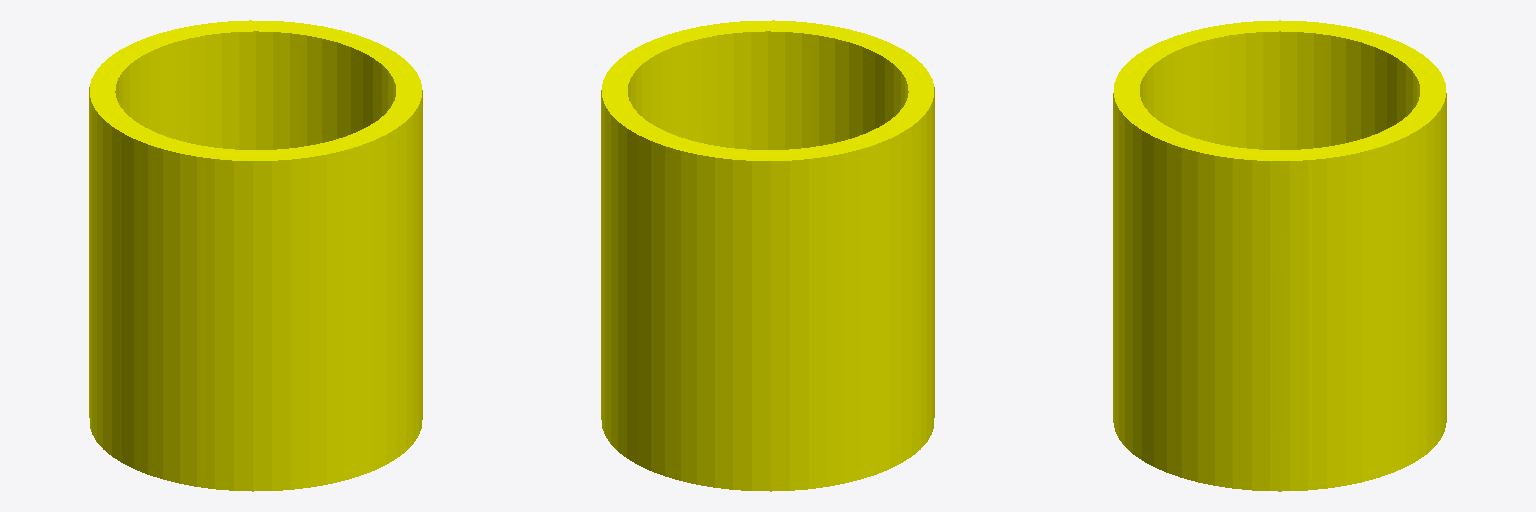
robot.urdf — egg:
<robot name="egg">
  <link name="egg_link">
    <visual>
      <origin xyz="0 0 0" rpy="0 0 0" />
      <geometry>
        <mesh filename="objects/cylinder_2_w.stl" scale="0.01 0.01 0.01" />
      </geometry>
      <material name="yellow">
        <color rgba="1.0 1.0 0.0 1.0" />
      </material>
    </visual>
    <collision>
      <geometry>
        <mesh filename="objects/cylinder_2_w.stl" scale="0.01 0.01 0.01" />
      </geometry>
    </collision>
    <inertial>
      <mass value="0.049800000000000004" />
      <inertia ixx="0.000484173" ixy="0.0" ixz="0.0" iyy="0.0005876640000000001" iyz="0.0" izz="0.000606522" />
    </inertial>
  </link>
</robot>

--- Facts derived from the render (not from the file) ---
Views: 3 orthographic renders of the robot side by side, from view 1: azimuth 30°, elevation 25°; view 2: azimuth 150°, elevation 25°; view 3: azimuth 270°, elevation 25°.
Model egg with 1 links and 0 joints (none), rooted at egg_link, posed all joints at 0.
Links seen in each view (by area): view 1: egg_link; view 2: egg_link; view 3: egg_link.
Link boxes in pixels (x1,y1,x2,y2): egg_link: (89,20,422,491); egg_link: (601,20,934,491); egg_link: (1113,20,1446,491).
Bounding box of the posed robot: 0.32 × 0.3199 × 0.35 m (x, y, z).
1 mesh visuals loaded from 1 distinct referenced files (1 binary STL).
